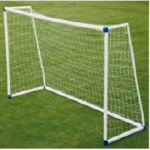goals: (2, 4, 148, 147)
